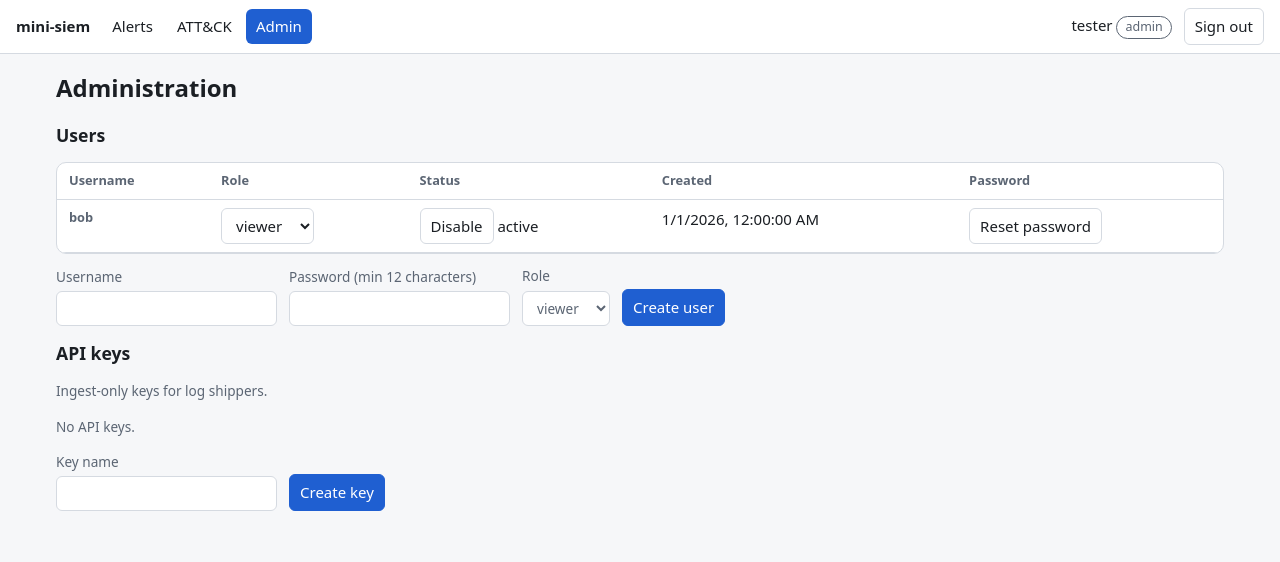
Test: admin page › resets a user's password with only the password in the PATCH body
This screenshot has width=1280, height=562.
Step 1. Click the button named "reset password bob" → click(1036, 226), box [969,208,1102,244]
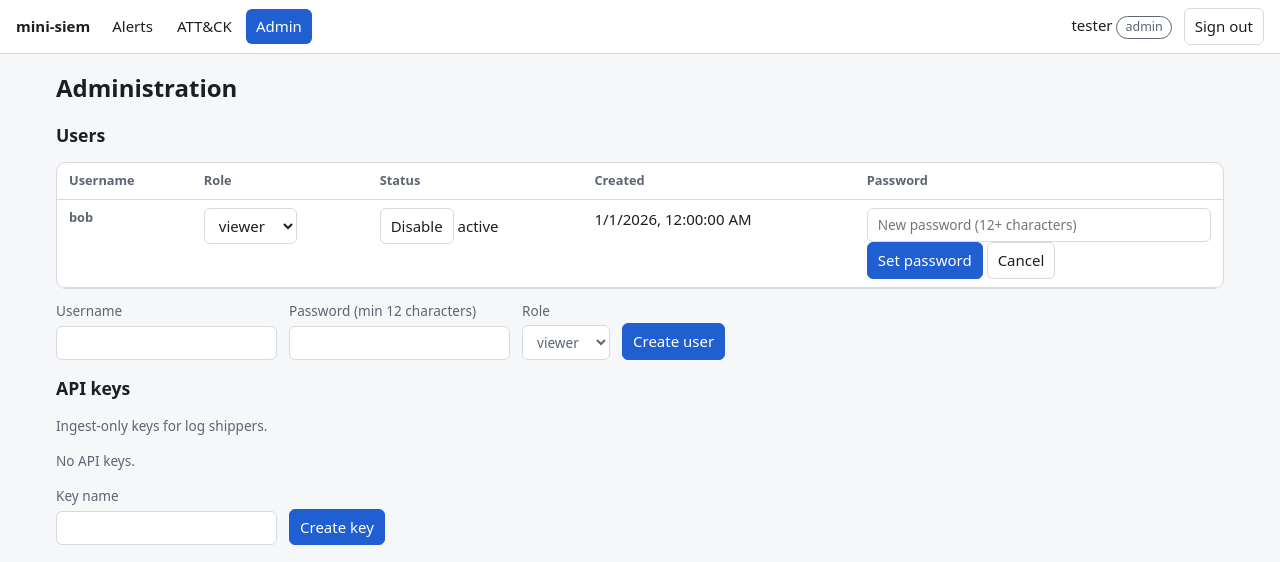
Step 2. Type "a-new-long-passphrase" into the password field named "new password for bob" → (1039, 225), box [867,208,1211,242]
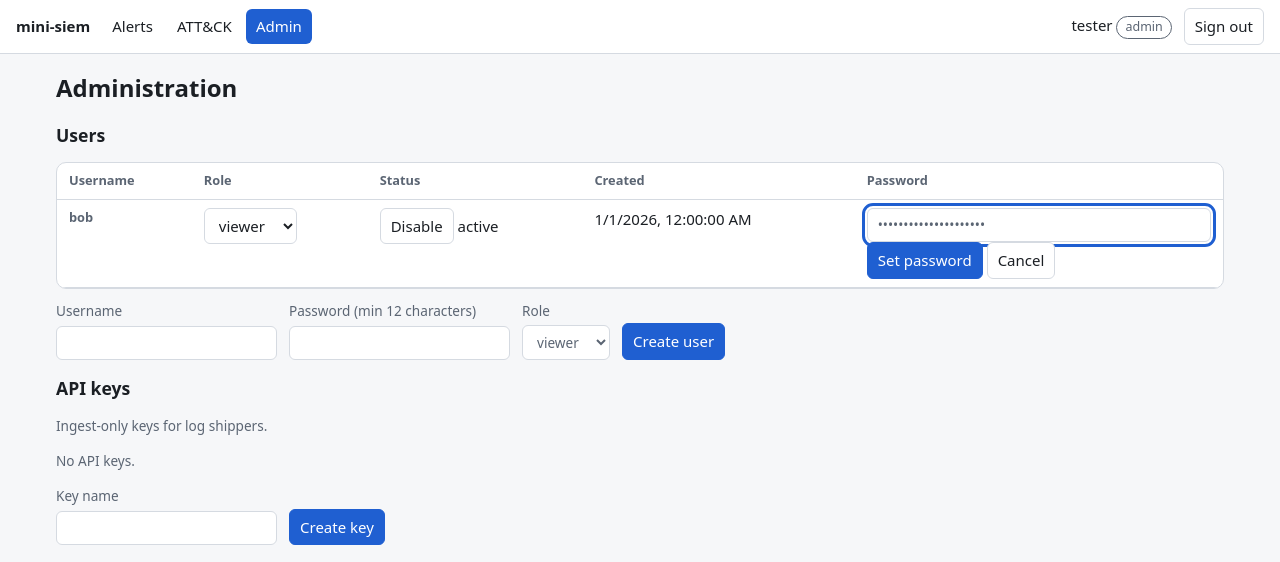
Step 3. Click the button "Set password" → click(925, 260), box [867,242,983,279]
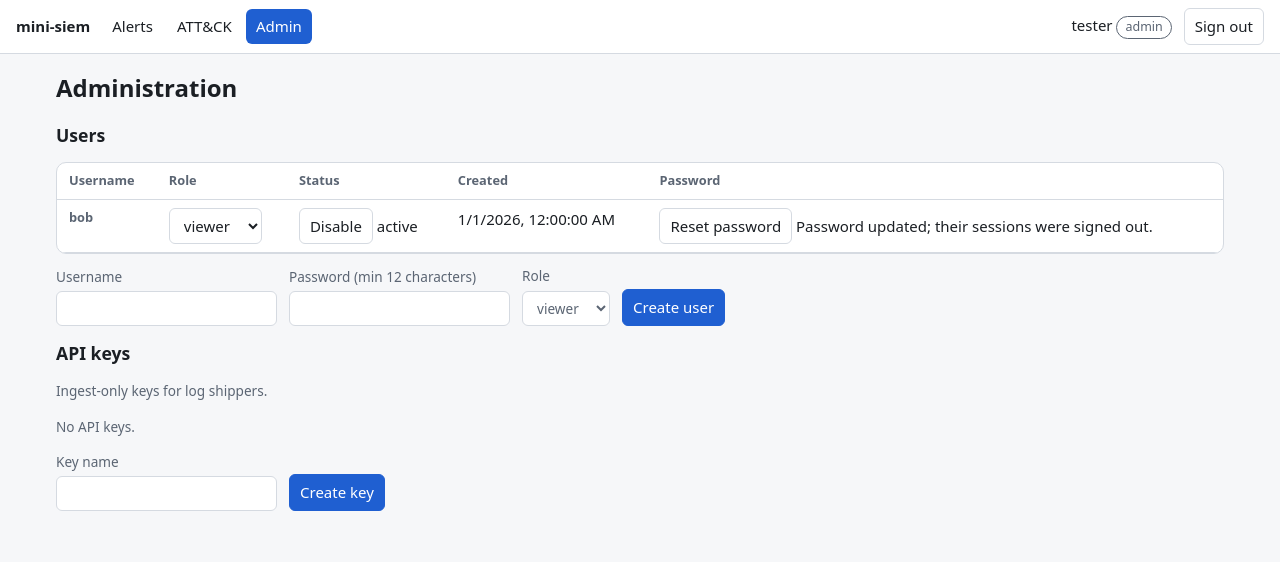
expect the field labelled "new password for bob" is not shown: met
expect the text "Password updated; their sessions were signed out." is shown: met, box [792,216,1153,236]
